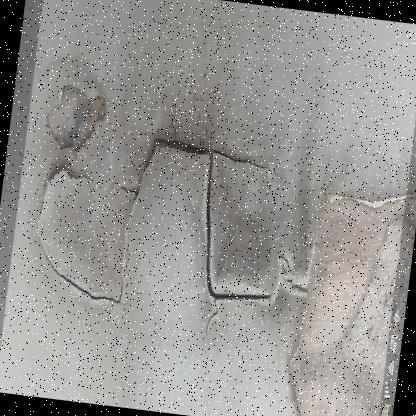Crack: (17, 46, 249, 330), (191, 157, 404, 358)
